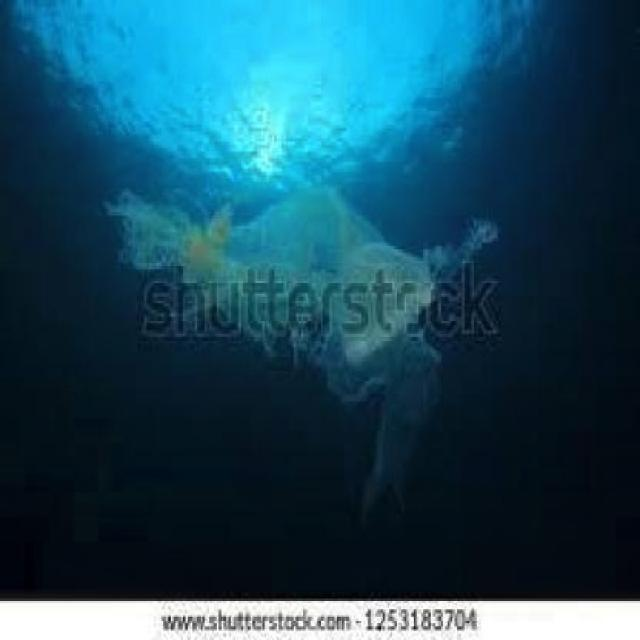pbag: (108, 178, 501, 536)
